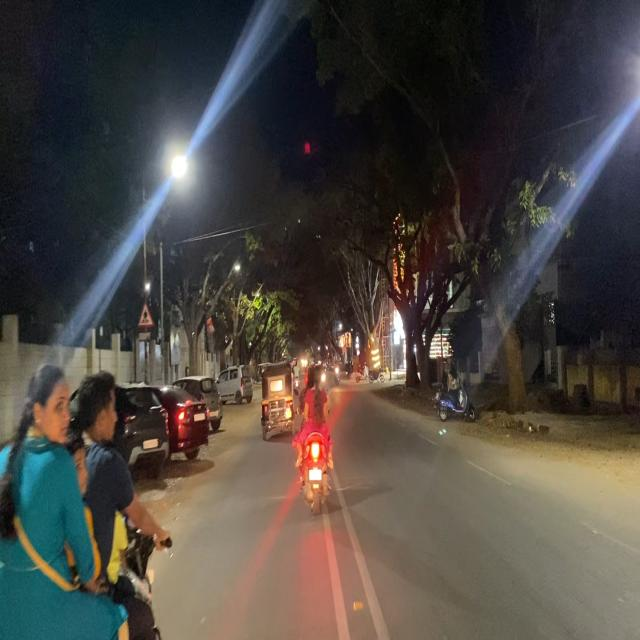bien_cam: (137, 300, 154, 327)
